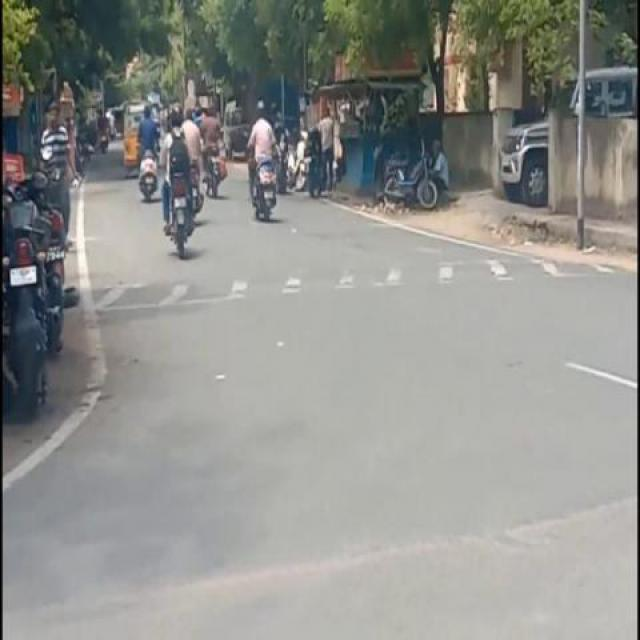Speed Bump: (183, 259, 618, 306), (92, 280, 184, 316)
